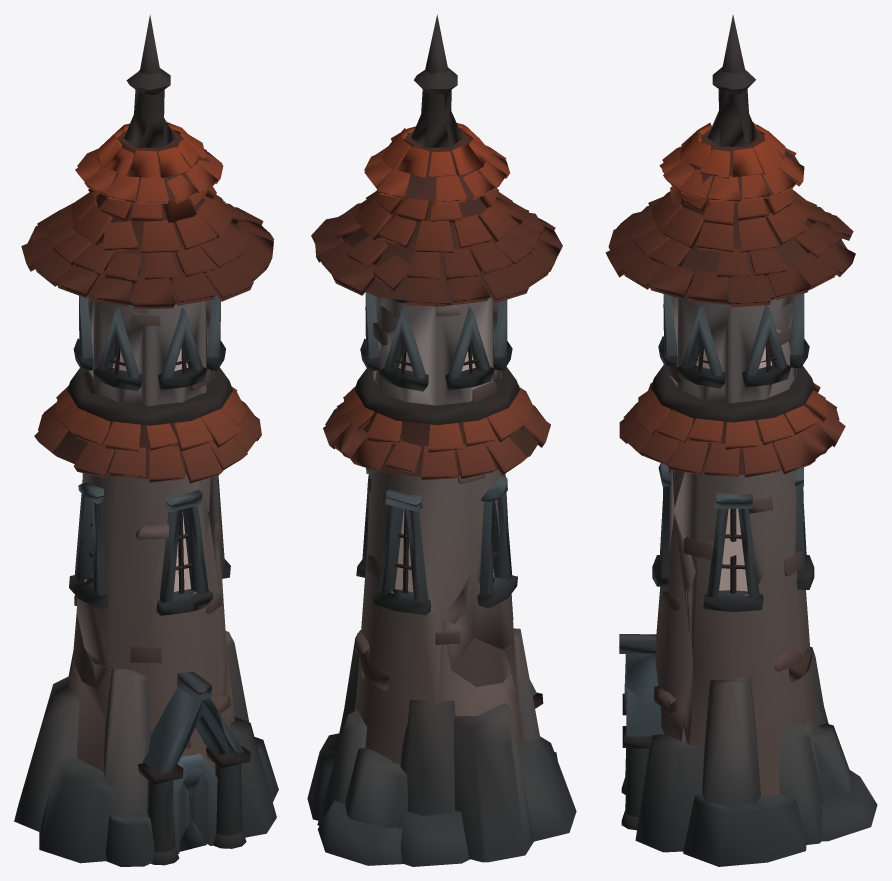
The model's file is hl_tower.glb.
The picture shows the model from 3 angles, left to right: view 1: azimuth 30°, elevation 25°; view 2: azimuth 150°, elevation 25°; view 3: azimuth 270°, elevation 25°; orthographic projection.
Visible parts, largest first — view 1: hl_tower; view 2: hl_tower; view 3: hl_tower.
Part boxes in pixels (box(x1,y1,x2,y2)): hl_tower: box(14, 14, 278, 866); hl_tower: box(307, 14, 576, 866); hl_tower: box(605, 15, 877, 866).
Bounding box in the file's own units: 7.47 × 23.49 × 7.29.
